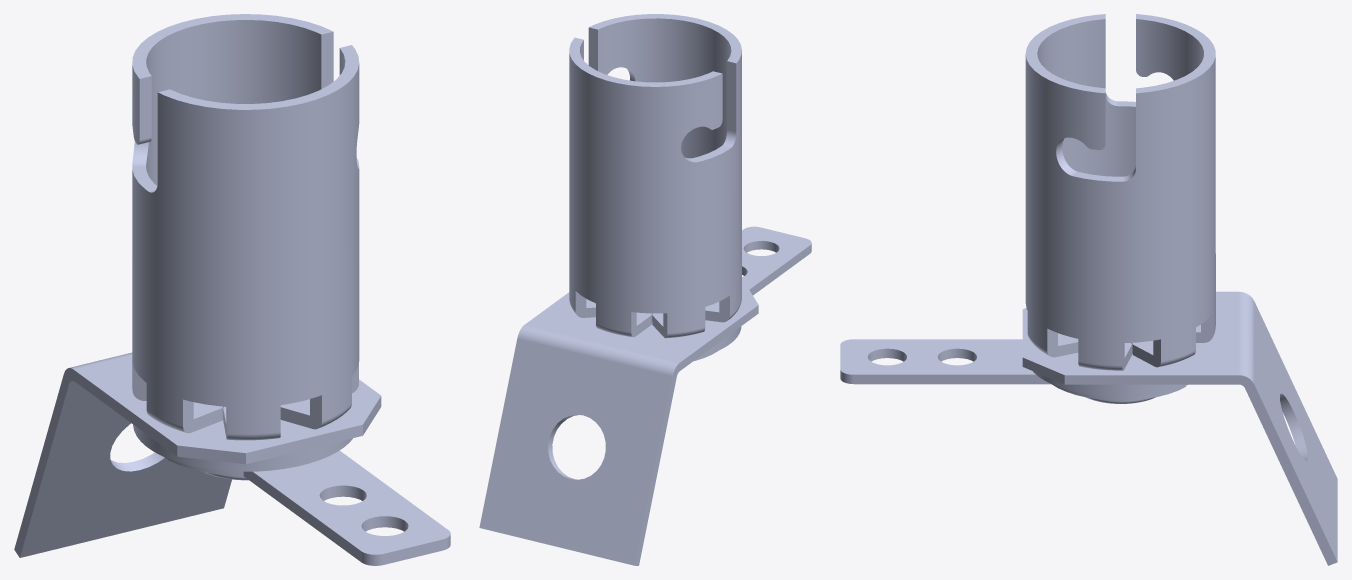
File: Lamp Socket 44, Under Playfield, Bally (E-120-99).fbx
3 views of the same model, side by side, from view 1: azimuth 30°, elevation 25°; view 2: azimuth 150°, elevation 25°; view 3: azimuth 270°, elevation 25° (orthographic). The views are drawn at different scales.
Parts seen in each view (by area): view 1: 44 Socket base, 44 mtg bkt flush, 44 Flat Tab, Fiber washer; view 2: 44 Socket base, 44 mtg bkt flush, 44 Flat Tab; view 3: 44 Socket base, 44 mtg bkt flush, 44 Flat Tab, Fiber washer.
Part boxes in pixels (x1=…): 44 Socket base: x1=132, y1=14, x2=359, y2=440; 44 mtg bkt flush: x1=14, y1=352, x2=381, y2=557; 44 Flat Tab: x1=164, y1=450, x2=450, y2=565; Fiber washer: x1=133, y1=424, x2=352, y2=471; 44 Socket base: x1=569, y1=14, x2=741, y2=338; 44 mtg bkt flush: x1=479, y1=282, x2=758, y2=565; 44 Flat Tab: x1=694, y1=226, x2=811, y2=360; 44 Socket base: x1=1025, y1=14, x2=1215, y2=370; 44 mtg bkt flush: x1=1022, y1=291, x2=1337, y2=565; 44 Flat Tab: x1=840, y1=339, x2=1185, y2=400; Fiber washer: x1=1033, y1=371, x2=1187, y2=396.
Size of the model in its own units: 1.12 by 2.94 by 2.82.
